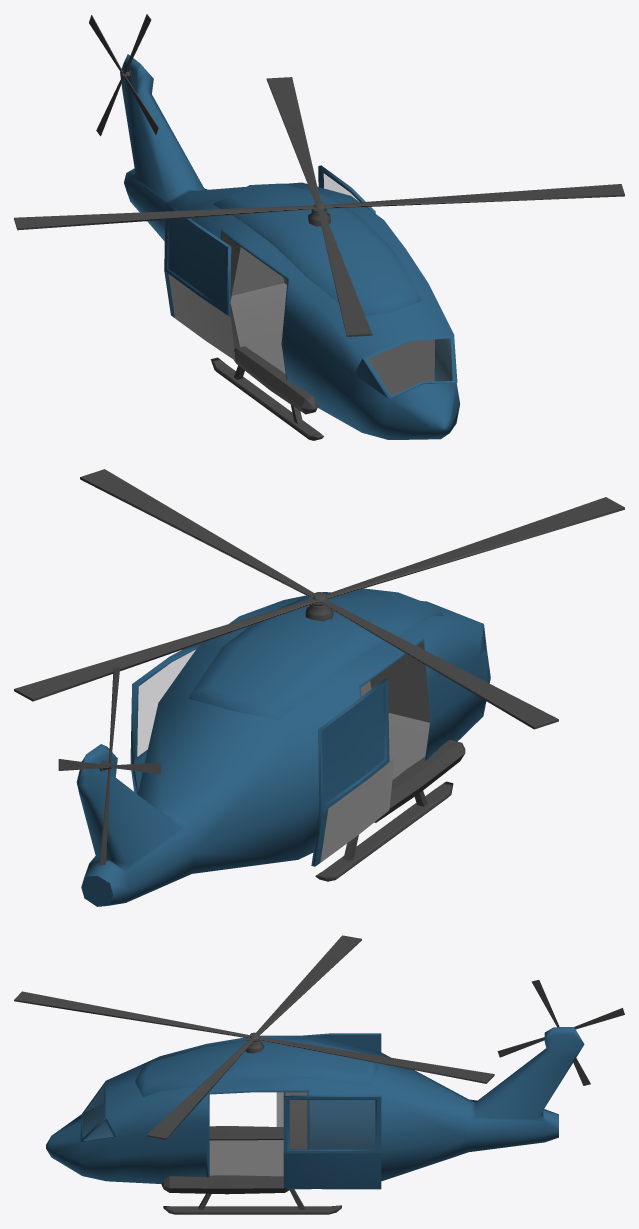
File: helikopter.fbx
3 renders of one model, top to bottom at view 1: azimuth 30°, elevation 25°; view 2: azimuth 150°, elevation 25°; view 3: azimuth 270°, elevation 25°, orthographic. The views are drawn at different scales.
Parts seen in each view (by area): view 1: helikopter, pervane, arka_pervane; view 2: helikopter, pervane, arka_pervane; view 3: helikopter, pervane, arka_pervane.
Part boxes in pixels (left/top/right/bottom): helikopter: left=120, top=54, right=459, bottom=440; pervane: left=14, top=77, right=624, bottom=336; arka_pervane: left=89, top=14, right=158, bottom=136; helikopter: left=76, top=588, right=490, bottom=906; pervane: left=14, top=469, right=624, bottom=729; arka_pervane: left=58, top=667, right=160, bottom=865; helikopter: left=46, top=1027, right=584, bottom=1214; pervane: left=14, top=935, right=494, bottom=1139; arka_pervane: left=497, top=980, right=624, bottom=1085.
Bounding box in the file's own units: 477 × 230 × 606.
